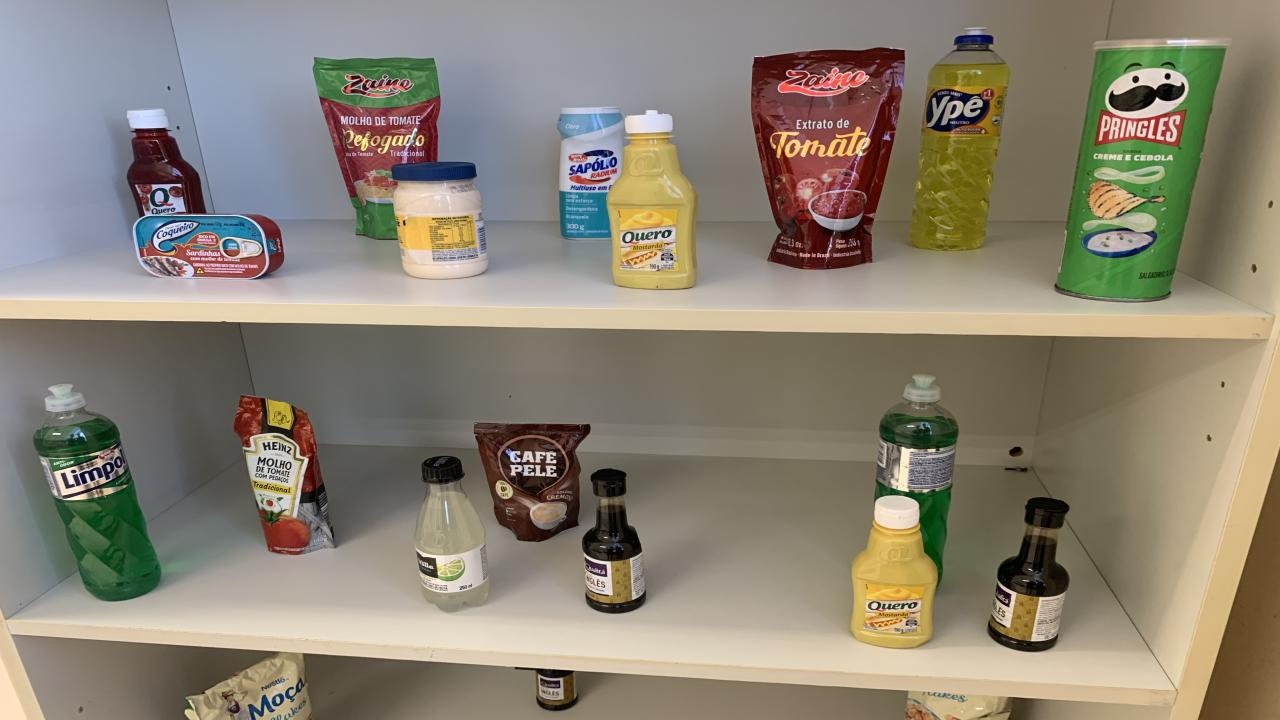Cleaner-Cleanup_Items: (558, 107, 625, 238)
Coffee-Pantry_Items: (475, 424, 590, 542)
Detergent-Cleanup_Items: (32, 384, 160, 602), (910, 28, 1010, 249), (875, 375, 958, 574)
English_Sauce-Pantry_Items: (988, 497, 1070, 651), (582, 469, 645, 613), (535, 669, 578, 711)
Flakes-Snacks: (185, 652, 312, 720), (905, 692, 1012, 720)
Ketchup-Pantry_Items: (128, 109, 205, 216)
Mayonnaise-Pantry_Items: (390, 161, 488, 279)
Mustard-Pantry_Items: (608, 111, 698, 289), (850, 495, 938, 649)
Pringles-Snacks: (1055, 38, 1230, 302)
Soda-Drinks: (415, 456, 490, 611)
Tomato_Sauce-Pantry_Items: (752, 47, 905, 268), (312, 58, 440, 238), (235, 396, 335, 555)
Tuna_Can-Pantry_Items: (132, 214, 282, 278)
